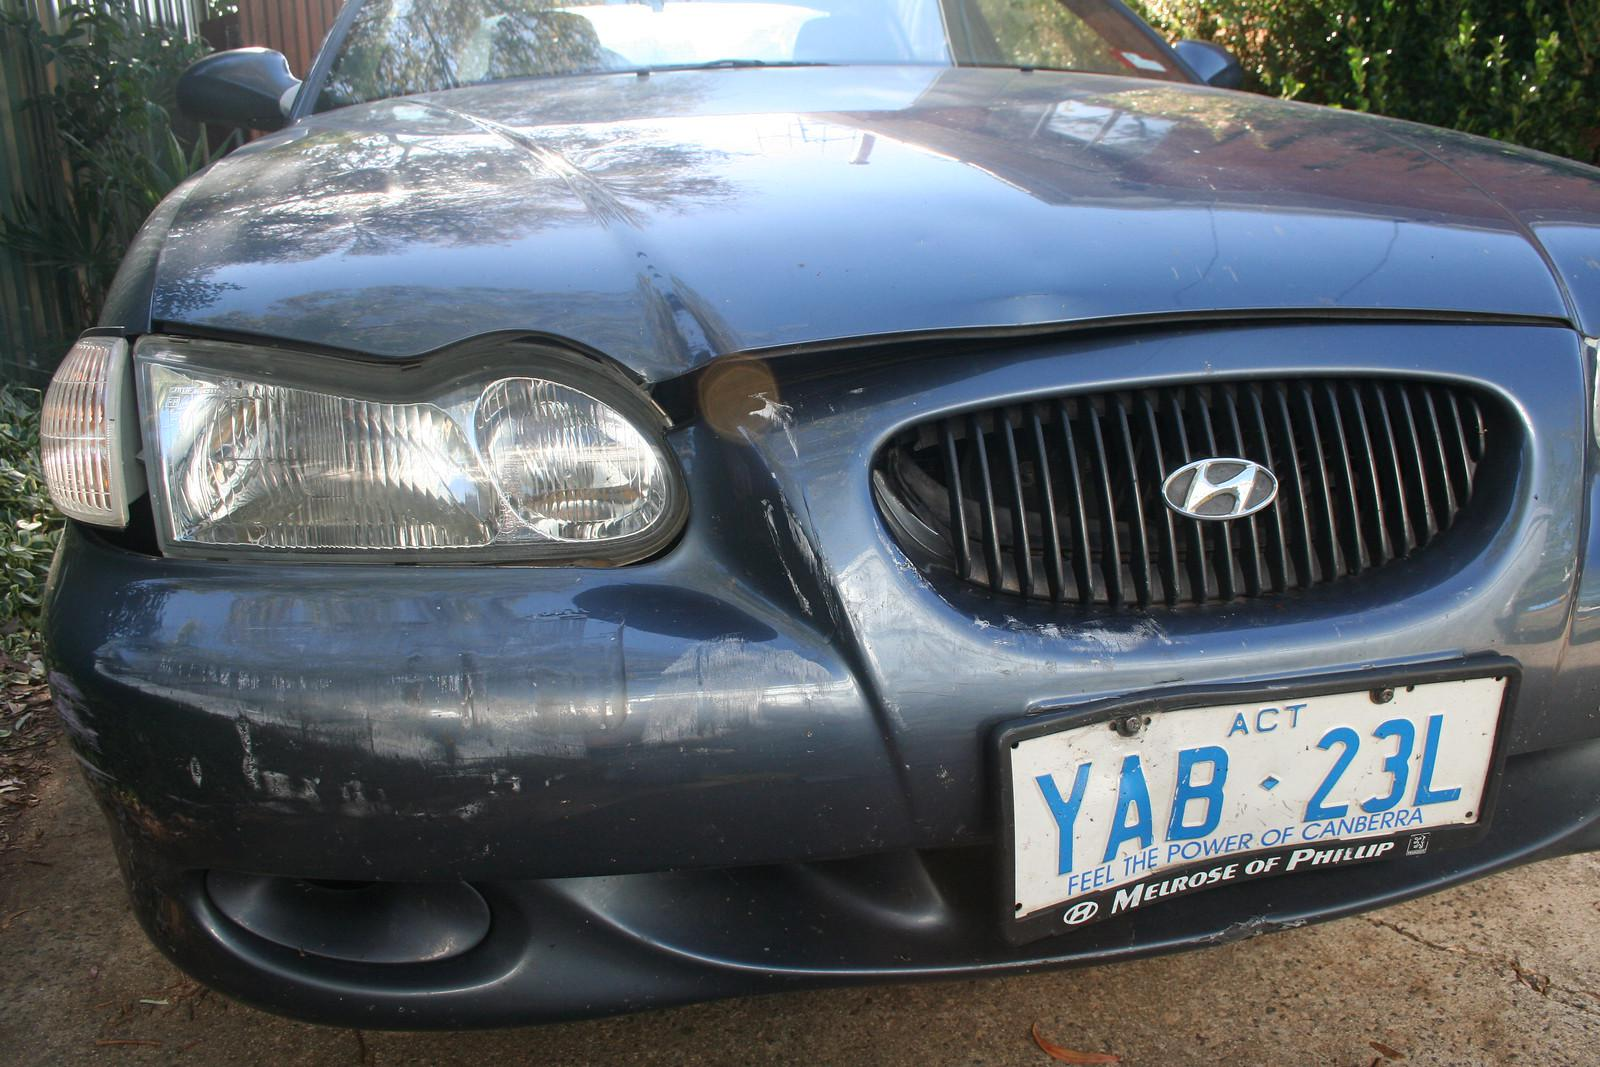front-bumper-dent: (121, 252, 1510, 975)
